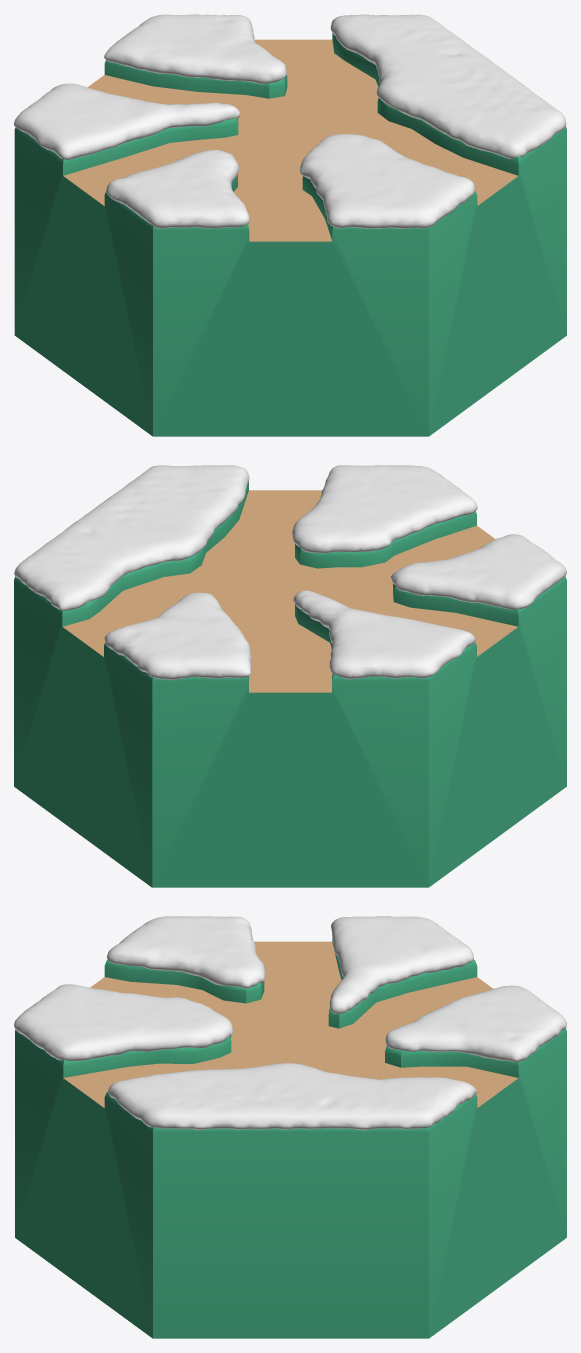
The model's file is snow_hex_forest_roadL.fbx.
3 renders of one model, top to bottom at view 1: azimuth 30°, elevation 25°; view 2: azimuth 150°, elevation 25°; view 3: azimuth 270°, elevation 25°, orthographic.
Visible parts, largest first — view 1: hex_forest_roadL.001, SnowBall.001, hex_forest_roadL; view 2: hex_forest_roadL.001, SnowBall.001, hex_forest_roadL; view 3: hex_forest_roadL.001, SnowBall.001, hex_forest_roadL.
Part boxes in pixels (box(x1,y1,x2,y2)): hex_forest_roadL.001: box(14, 33, 566, 436); SnowBall.001: box(14, 14, 566, 228); hex_forest_roadL: box(63, 39, 517, 241); hex_forest_roadL.001: box(14, 482, 566, 887); SnowBall.001: box(14, 465, 566, 680); hex_forest_roadL: box(62, 490, 517, 692); hex_forest_roadL.001: box(15, 938, 566, 1338); SnowBall.001: box(14, 916, 566, 1130); hex_forest_roadL: box(63, 941, 518, 1107).
Bounding box in the file's own units: 204 × 104 × 231.
